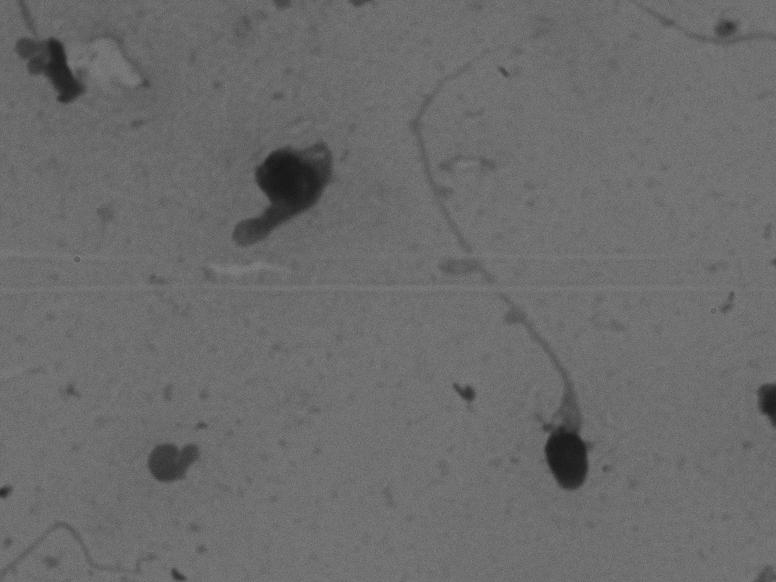Abnormal: (379, 25, 627, 503), (191, 111, 350, 298)
